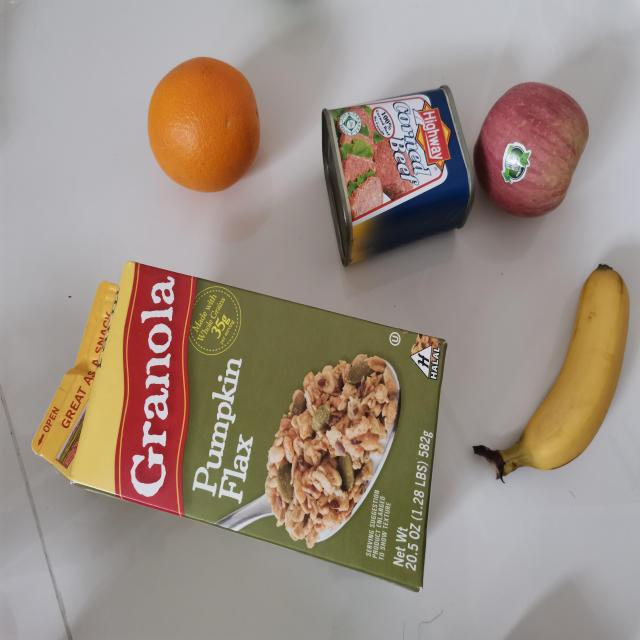Apple: (472, 82, 594, 218)
Banana: (473, 261, 632, 483)
Cerealbox: (31, 260, 448, 590)
Orange: (143, 55, 266, 203)
